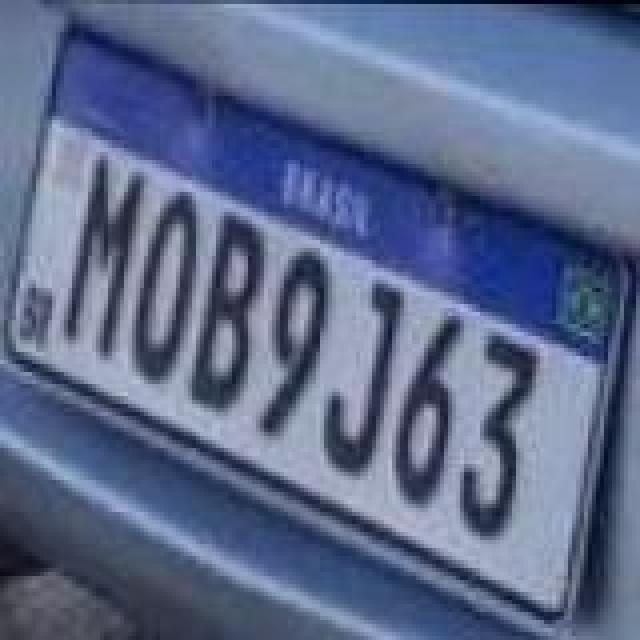3: (454, 332, 538, 544)
6: (392, 314, 464, 506)
9: (256, 250, 328, 442)
B: (190, 212, 266, 416)
J: (322, 278, 406, 478)
M: (60, 150, 148, 362)
O: (134, 188, 202, 388)
